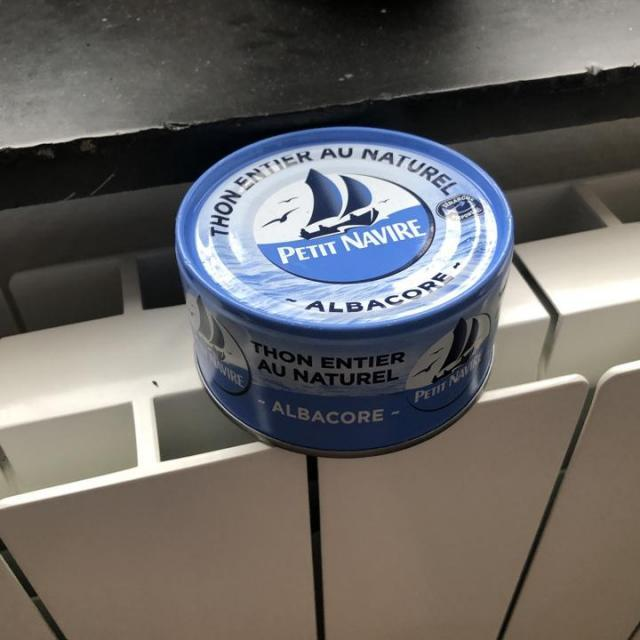recyclable: (169, 120, 516, 462)
